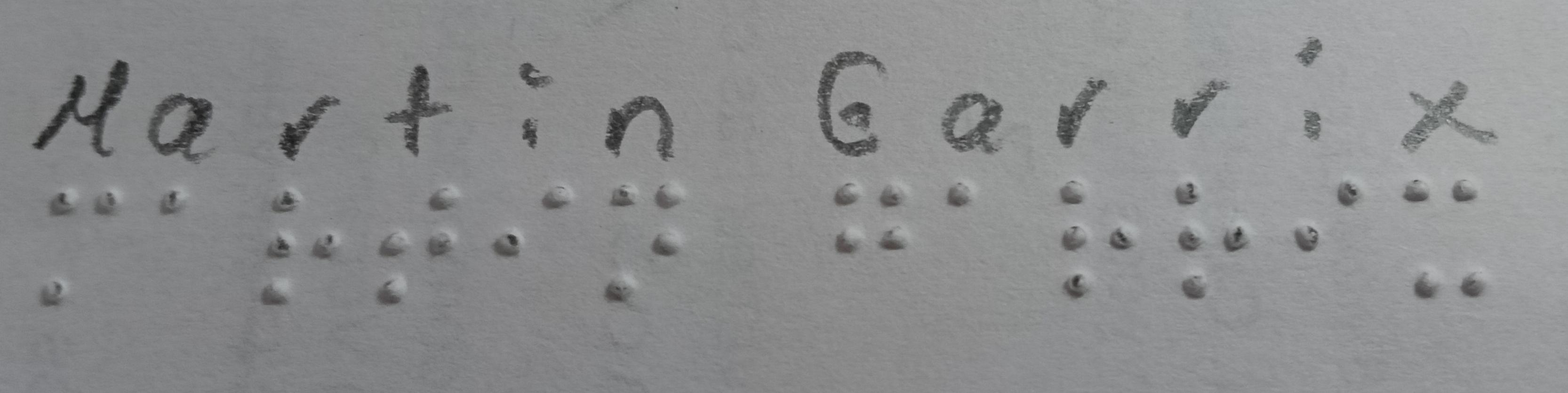a: (134, 160, 212, 249), (929, 162, 995, 225)
g: (809, 164, 925, 284)
i: (466, 169, 584, 268), (1275, 162, 1369, 279)
m: (38, 164, 129, 322)
n: (588, 174, 704, 324)
r: (256, 164, 351, 324), (1040, 171, 1141, 310), (1160, 171, 1256, 308)
t: (365, 176, 468, 324)
x: (1388, 155, 1515, 312)
